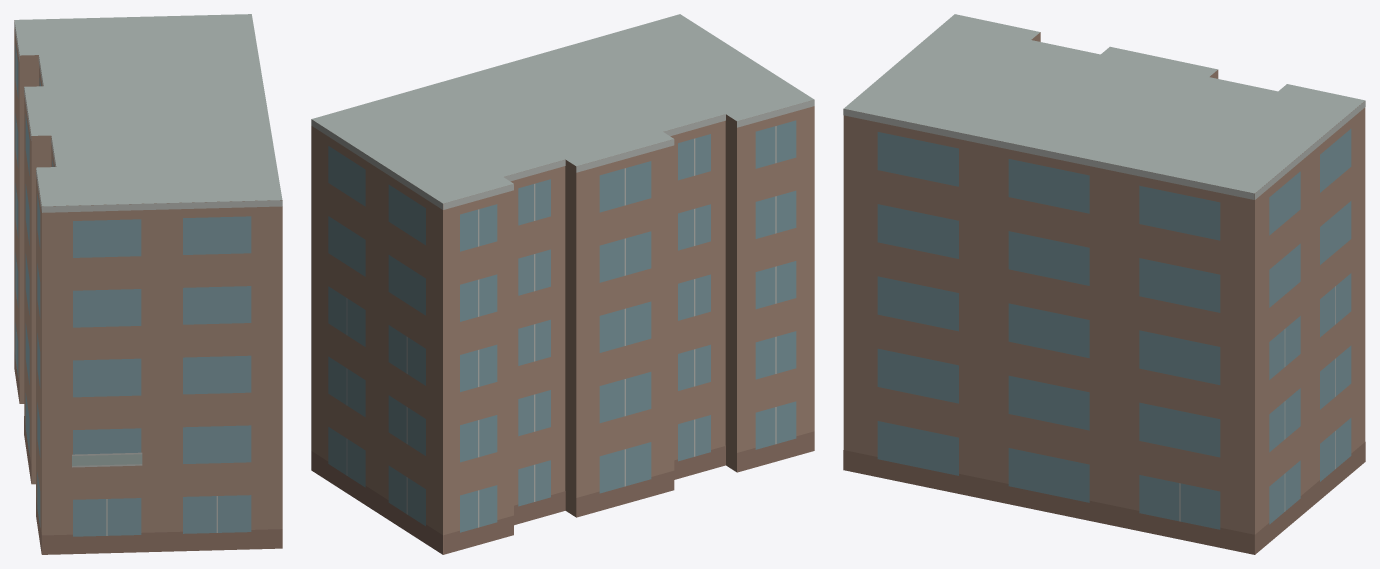
The model's file is survey-upis-32889240.glb.
3 renders of one model, left to right at view 1: azimuth 30°, elevation 25°; view 2: azimuth 150°, elevation 25°; view 3: azimuth 270°, elevation 25°, orthographic. The views are drawn at different scales.
Parts seen in each view (by area): view 1: survey-upis-32889240.tmp; view 2: survey-upis-32889240.tmp; view 3: survey-upis-32889240.tmp.
Boxes of the visible parts, x1,y1,x2,y2 form: survey-upis-32889240.tmp: [14, 14, 282, 554]; survey-upis-32889240.tmp: [311, 14, 814, 554]; survey-upis-32889240.tmp: [843, 14, 1365, 554].
Bounding box in the file's own units: 14.12 × 13.25 × 17.35.
